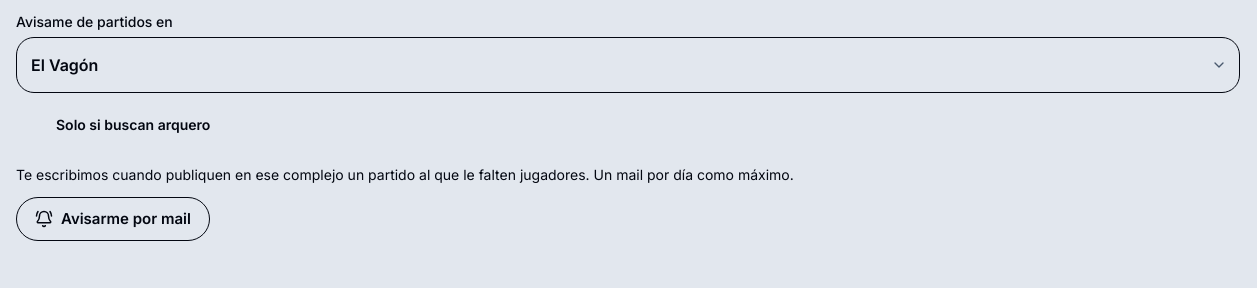
AlertOptIn: mensajes del último envío › un corte de red se dice en el form (no va al error boundary) y no pierde la selección
Click the button "Avisarme por mail". click: (113, 219)
box: [16,197,210,241]
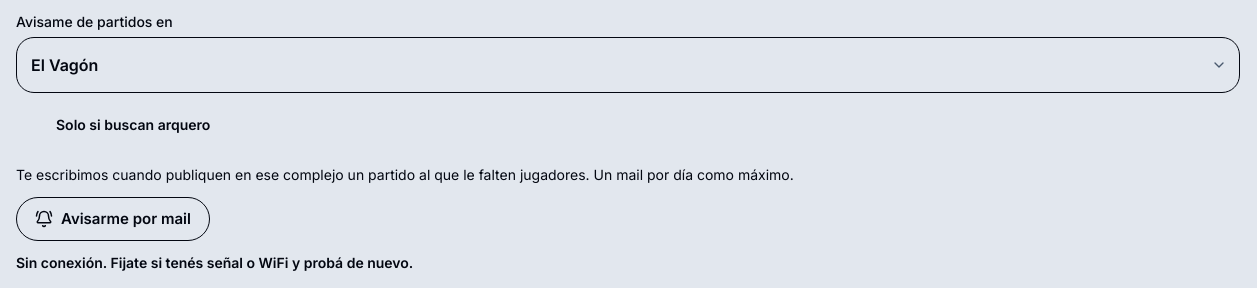
Expected: the button named "Avisame de partidos en" reads "El Vagón", [16,37,1240,93]
Expected: the message reads "Sin conexión. Fijate si tenés señal o WiFi y probá de nuevo.", [16,254,413,271]
